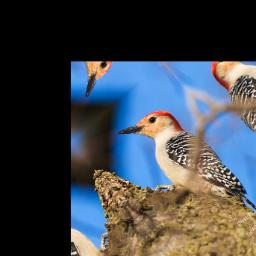Woodpecker: (115, 91, 256, 248)
